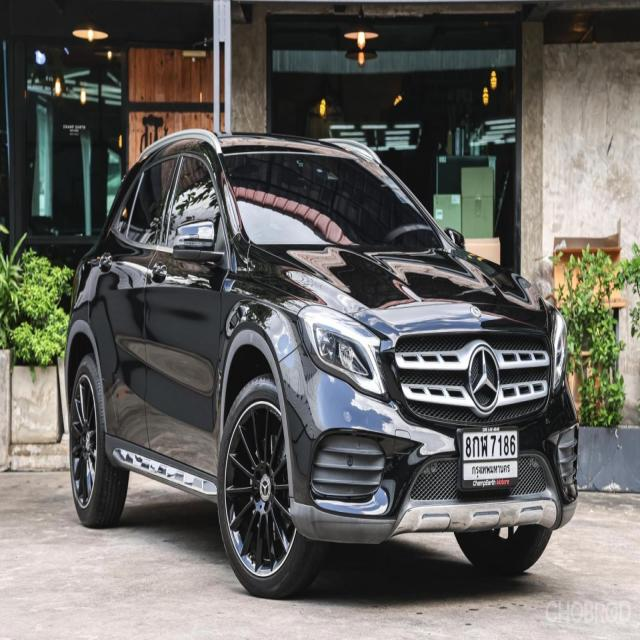license_plate: (460, 428, 519, 492)
